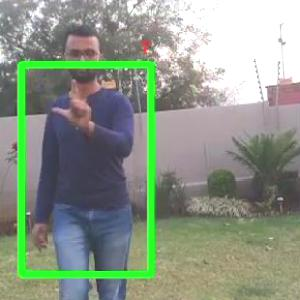land_hand: (50, 77, 92, 128)
